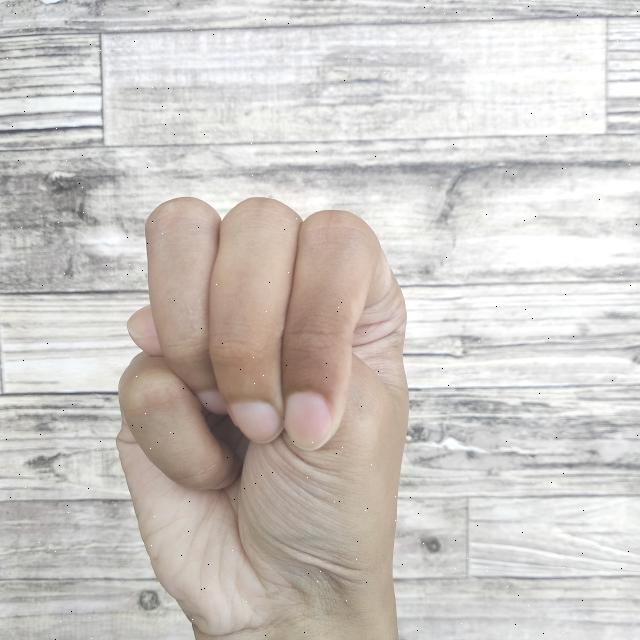M: (108, 183, 419, 640)
